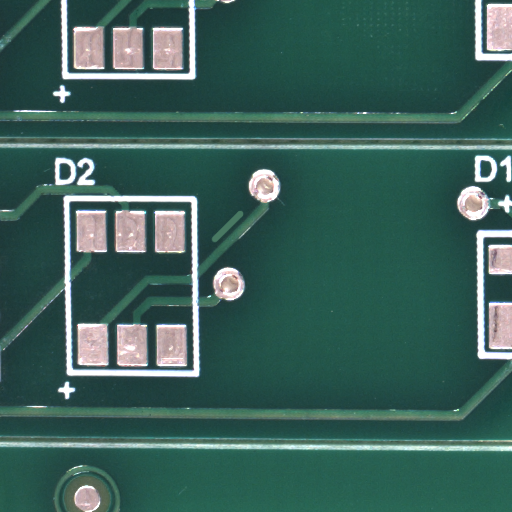Spurious_copper: (227, 226, 260, 259)
